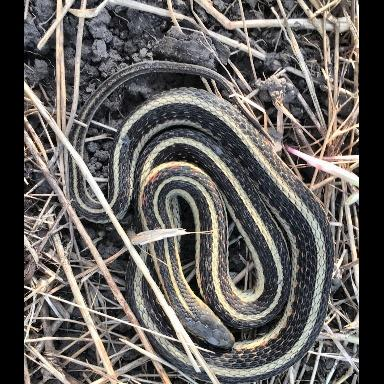snake: (84, 77, 317, 379)
